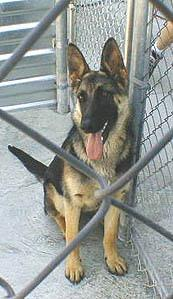German_shepherd: (6, 36, 137, 284)
